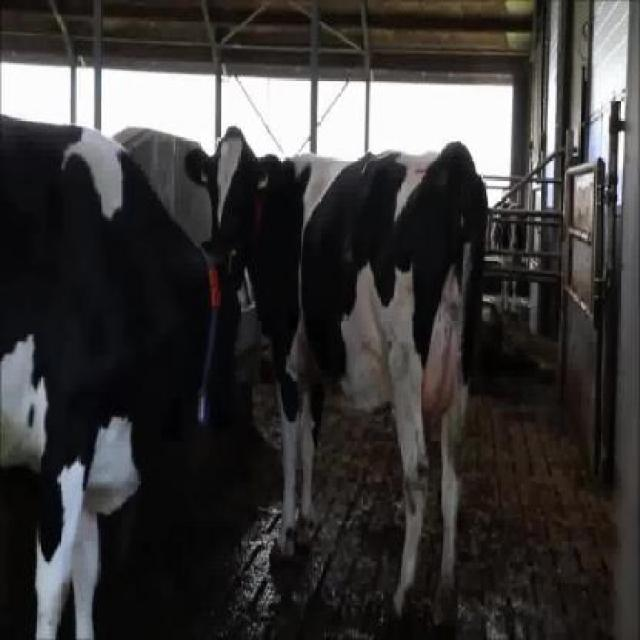Cow: (183, 123, 489, 629), (0, 114, 249, 638)
